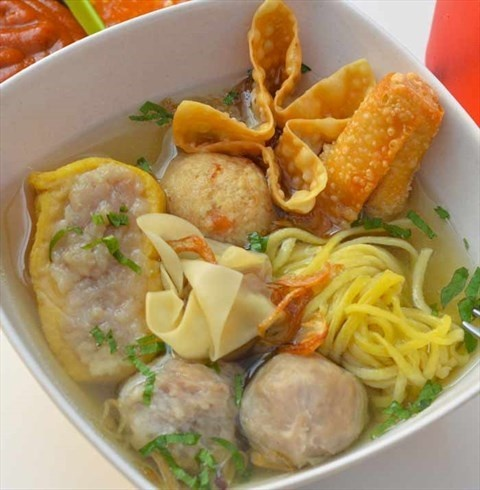bakso_malang: (29, 1, 470, 490)
